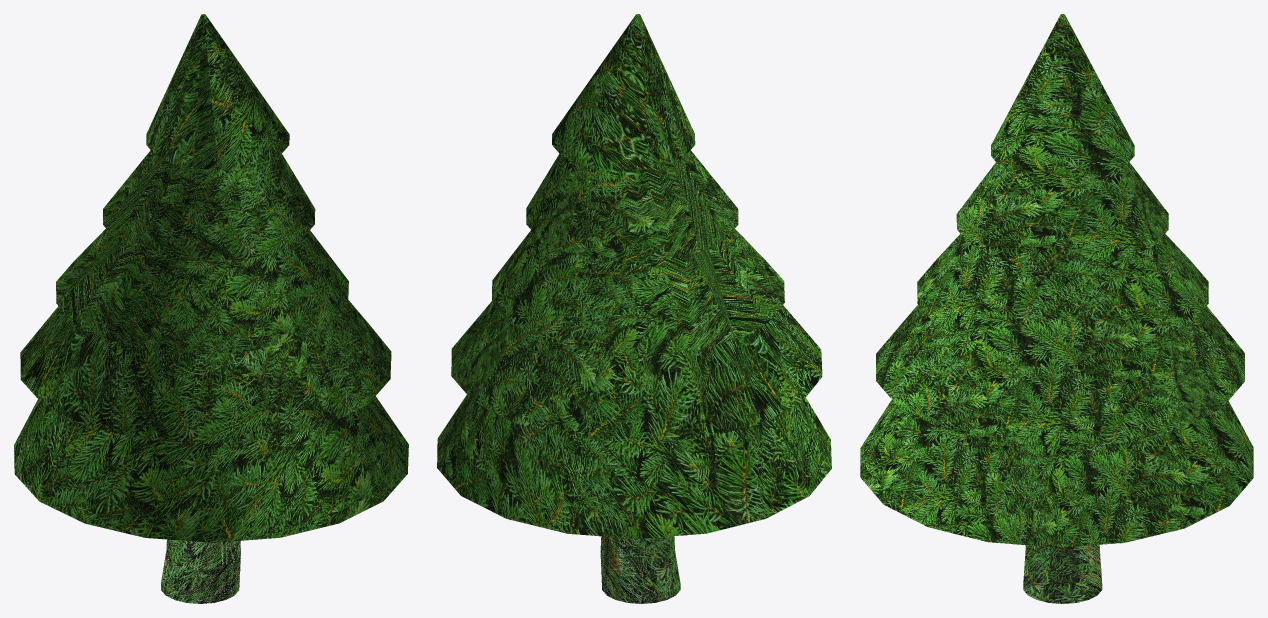
Rendered from fir.glb.
The picture shows the model from 3 angles, left to right: view 1: azimuth 30°, elevation 25°; view 2: azimuth 150°, elevation 25°; view 3: azimuth 270°, elevation 25°; orthographic projection.
Visible parts, largest first — view 1: Cylinder001; view 2: Cylinder001; view 3: Cylinder001.
Boxes of the visible parts, <box> form: Cylinder001: <box>14,14,408,603</box>; Cylinder001: <box>437,14,831,603</box>; Cylinder001: <box>860,14,1253,603</box>.
Bounding box in the file's own units: 0.0312 × 0.0491 × 0.0305.
Materials: 2 (1 with a texture image).
